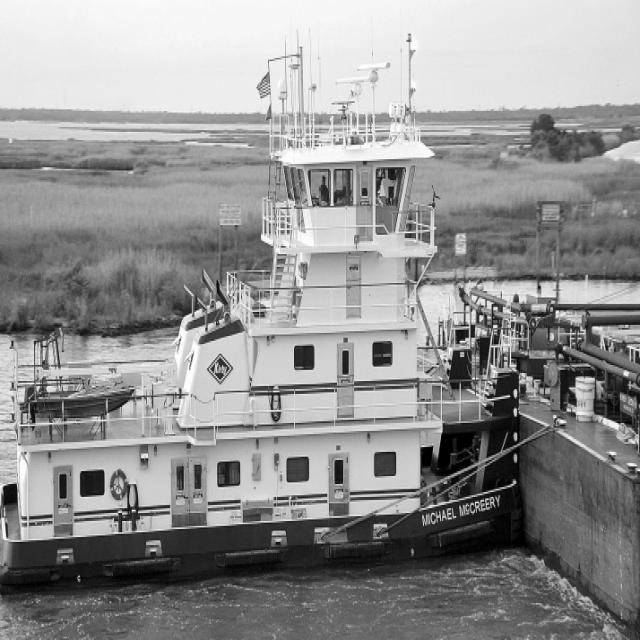tugboat: (1, 57, 525, 600)
